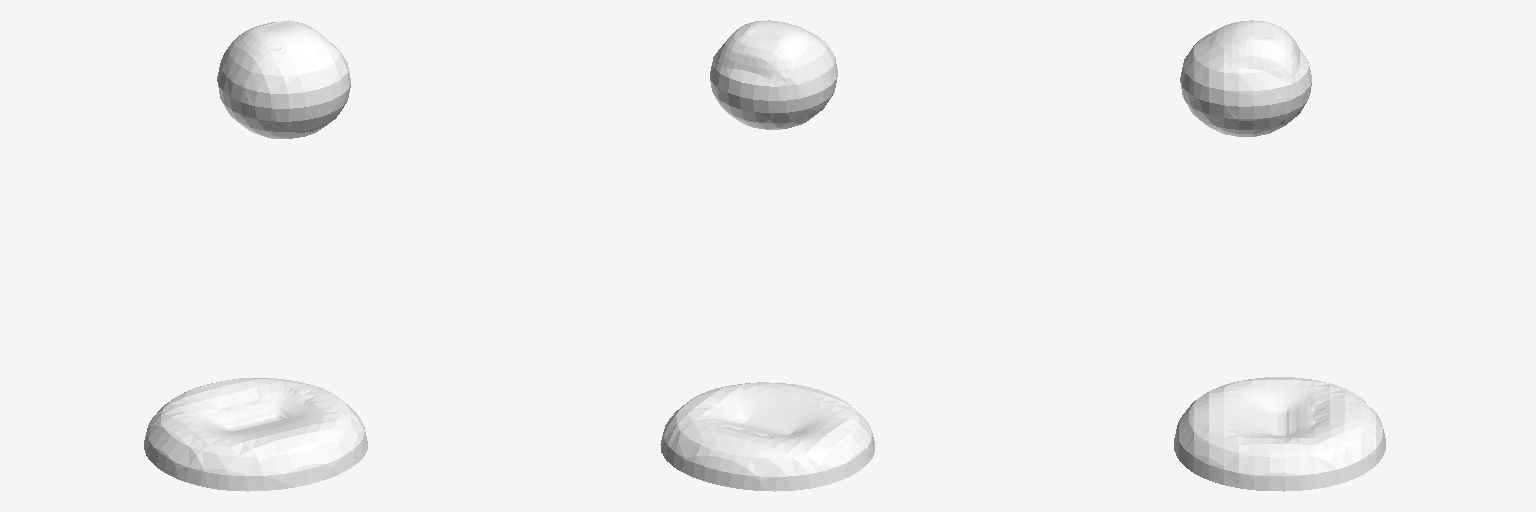
The robot description file, URDF, robot "girishpointcloud.urdf":
<?xml version="1.0" ?>
<robot name="girishpointcloud.urdf">
  <link name="baseLink">
    <inertial>
      <origin rpy="0 0 0" xyz="0 0 0"/>
       <mass value="10.0"/>
       <inertia ixx="9" ixy="3" ixz="5" iyy="0" iyz="0" izz="0"/>
    </inertial>
    <visual>
      <origin rpy="0 0 0" xyz="0 0 0"/>
      <geometry>
        <mesh filename="girishpointcloud.obj" scale="1.0 1.0 1.0"/>
      </geometry>
      <material name="white">
       <color rgba="1 1 1 1"/>
     </material>
    </visual>
    <collision>
      <origin rpy="0 0 0" xyz="0 0 0"/>
      <geometry>
        <mesh filename="girishpointcloud.obj" scale="1.0 1.0 1.0"/>
        <!-- You could also specify the collision (for the girishpointcloud) with a "box" tag: -->
        <!-- <box size=".06 .06 .06"/> -->
      </geometry>
    </collision>
  </link>
</robot>
        

--- Render facts (derived) ---
3 views of the same robot in one strip: view 1: azimuth 30°, elevation 25°; view 2: azimuth 150°, elevation 25°; view 3: azimuth 270°, elevation 25° (orthographic).
Model girishpointcloud.urdf with 1 links and 0 joints (none), rooted at baseLink, posed all joints at 0.
Links seen in each view (by area): view 1: baseLink; view 2: baseLink; view 3: baseLink.
Link boxes in pixels (x1,y1,x2,y2): baseLink: [144, 20, 367, 491]; baseLink: [660, 20, 874, 491]; baseLink: [1174, 20, 1385, 491].
Size in the robot's own frame: 64.55 by 61.85 by 135 metres.
Meshes: 1 distinct files referenced, 1 mesh visuals loaded (1 OBJ).
